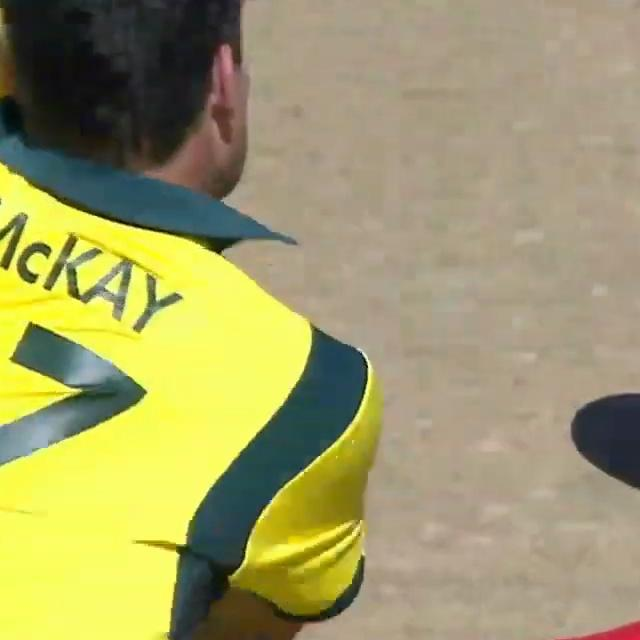umpire: (363, 204, 640, 640)
